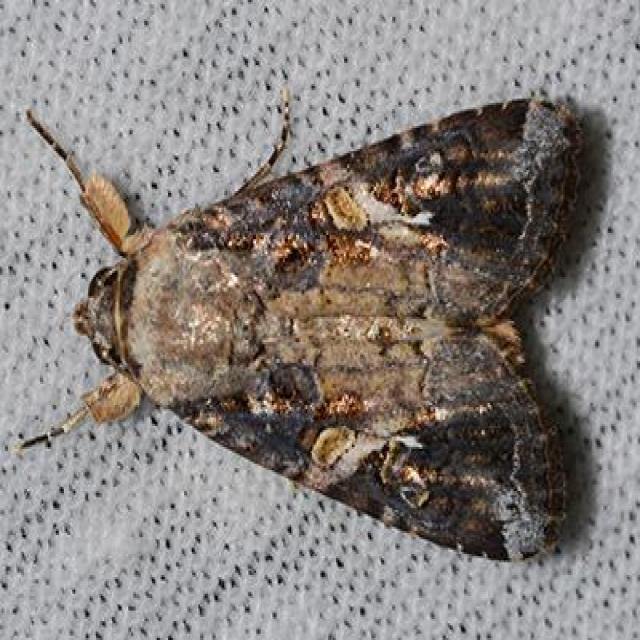armyworm: (57, 97, 604, 545)
